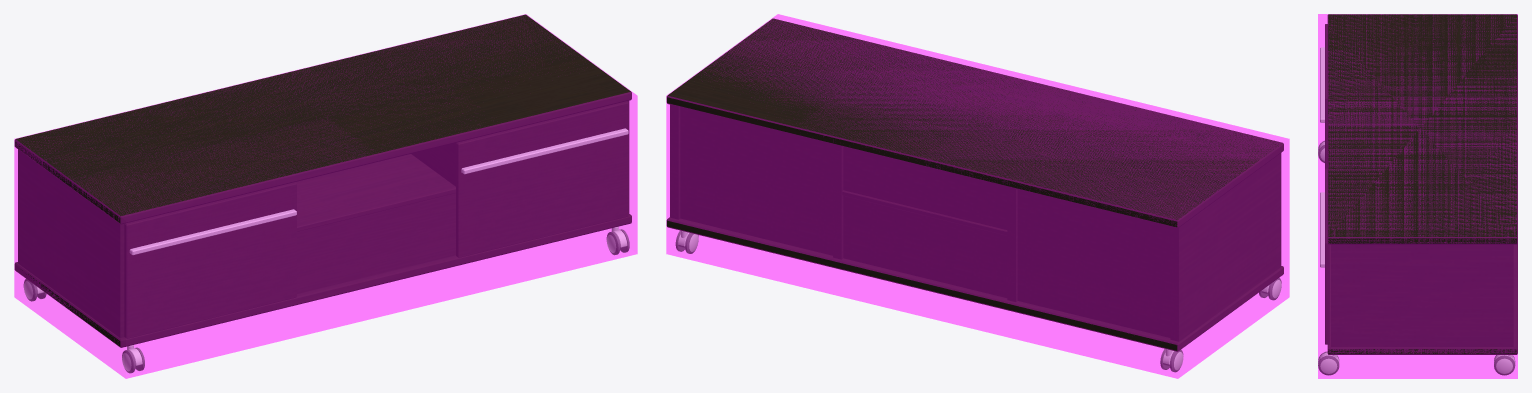
The model's file is TVbass_B.fbx.
3 renders of one model, left to right at view 1: azimuth 30°, elevation 25°; view 2: azimuth 150°, elevation 25°; view 3: azimuth 270°, elevation 25°, orthographic. The views are drawn at different scales.
Visible parts, largest first — view 1: TVbass_B, boundingbox; view 2: TVbass_B, boundingbox; view 3: TVbass_B, boundingbox.
Boxes of the visible parts, box(x1,y1,x2,y2) form: TVbass_B: box(14, 14, 631, 373); boundingbox: box(14, 14, 637, 378); TVbass_B: box(666, 18, 1283, 372); boundingbox: box(666, 14, 1289, 378); TVbass_B: box(1318, 14, 1517, 375); boundingbox: box(1318, 14, 1517, 378).
Bounding box in the file's own units: 170 × 50.24 × 64.2.
4 materials, 1 textured.
